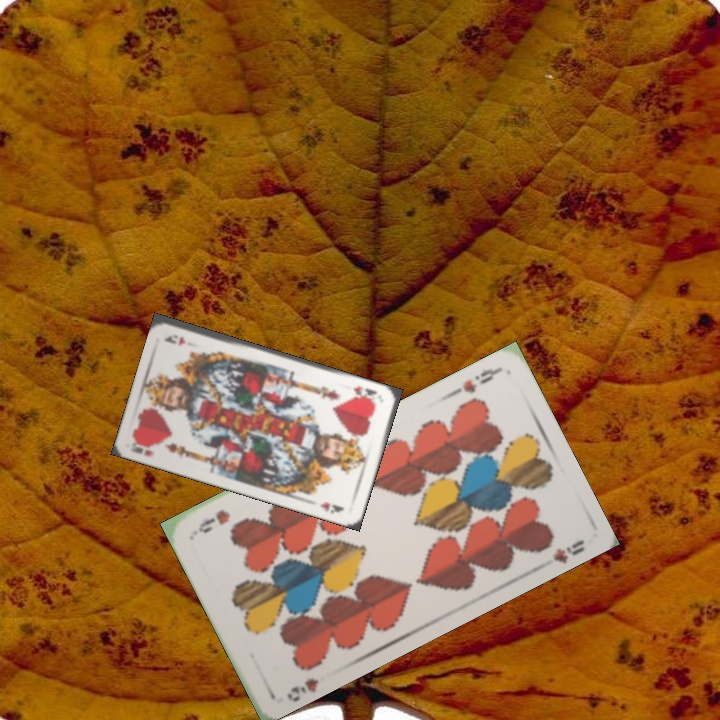H9: (458, 364, 502, 396), (282, 674, 322, 704)
HK: (349, 382, 380, 405), (127, 436, 157, 459)
